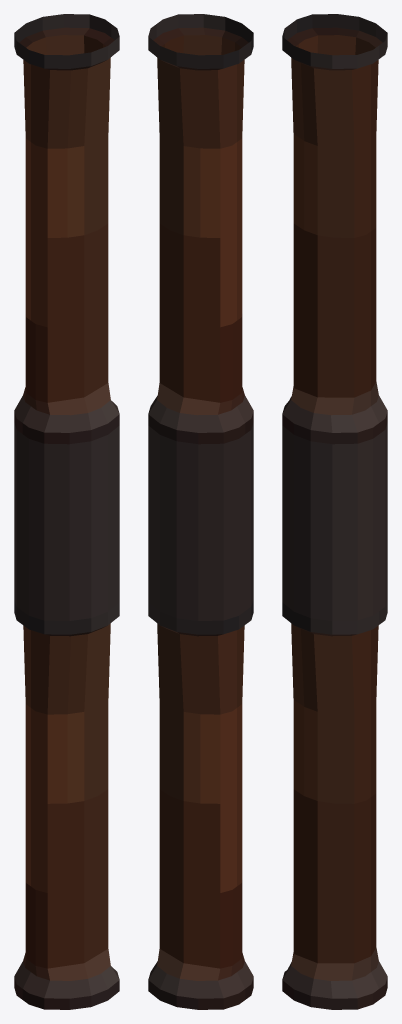
File: Wall_HomeA-PostA-2Story.fbx
The picture shows the model from 3 angles, left to right: view 1: azimuth 30°, elevation 25°; view 2: azimuth 150°, elevation 25°; view 3: azimuth 330°, elevation 25°; orthographic projection.
Visible parts, largest first — view 1: Wall_HomeA-PostA-2Story; view 2: Wall_HomeA-PostA-2Story; view 3: Wall_HomeA-PostA-2Story.
Boxes of the visible parts, x1=… form: Wall_HomeA-PostA-2Story: x1=14, y1=14, x2=119, y2=1009; Wall_HomeA-PostA-2Story: x1=148, y1=14, x2=253, y2=1009; Wall_HomeA-PostA-2Story: x1=282, y1=14, x2=387, y2=1009.
Bounding box in the file's own units: 73.54 × 759 × 69.96.
